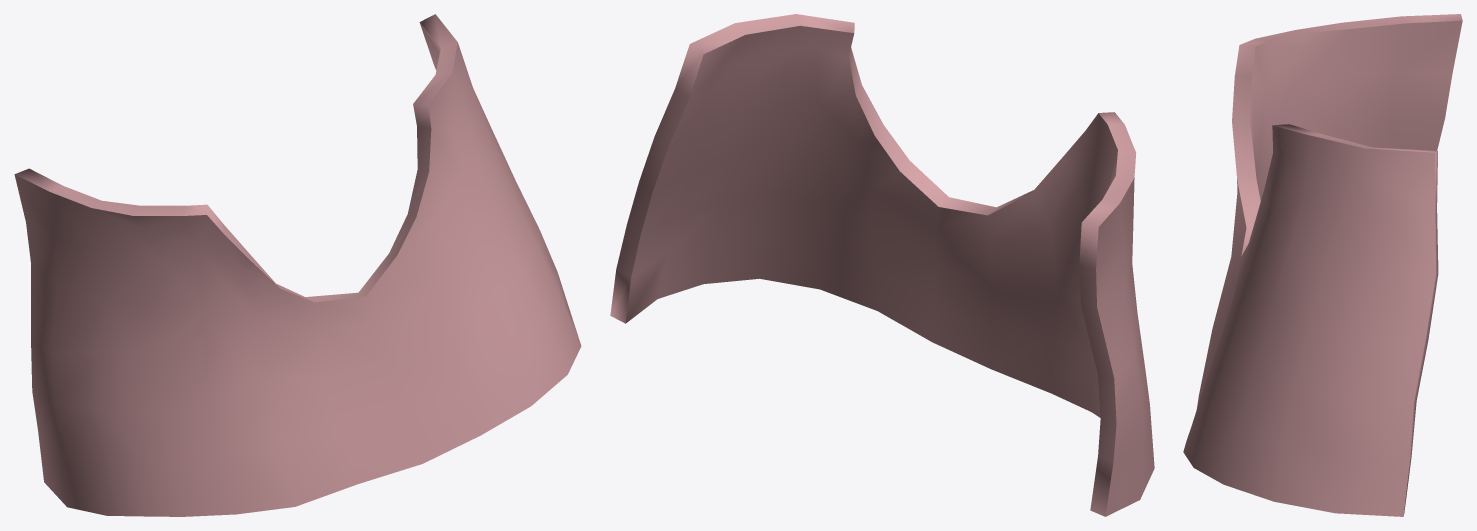
The picture shows the model from 3 angles, left to right: view 1: azimuth 30°, elevation 25°; view 2: azimuth 150°, elevation 25°; view 3: azimuth 270°, elevation 25°; orthographic projection. The views are drawn at different scales.
Parts seen in each view (by area): view 1: ZA_41655f215e93c6f9; view 2: ZA_41655f215e93c6f9; view 3: ZA_41655f215e93c6f9.
Part boxes in pixels (x1,y1,x2,y2): ZA_41655f215e93c6f9: [14, 14, 581, 516]; ZA_41655f215e93c6f9: [610, 14, 1154, 516]; ZA_41655f215e93c6f9: [1183, 14, 1462, 516].
Size of the model in its own units: 0.0955 by 0.0672 by 0.0433.
